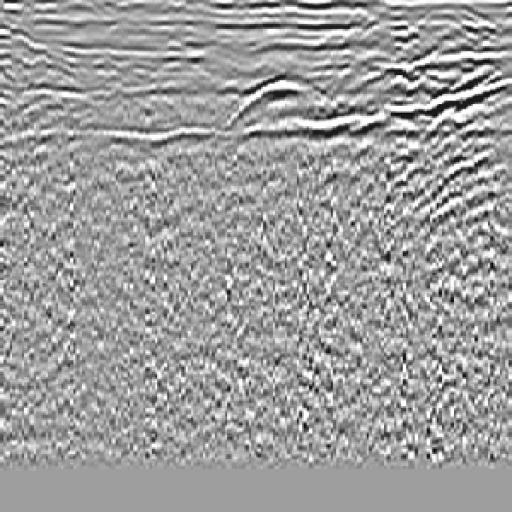metalic: (218, 63, 361, 129)
non-metallic: (392, 63, 512, 225)
